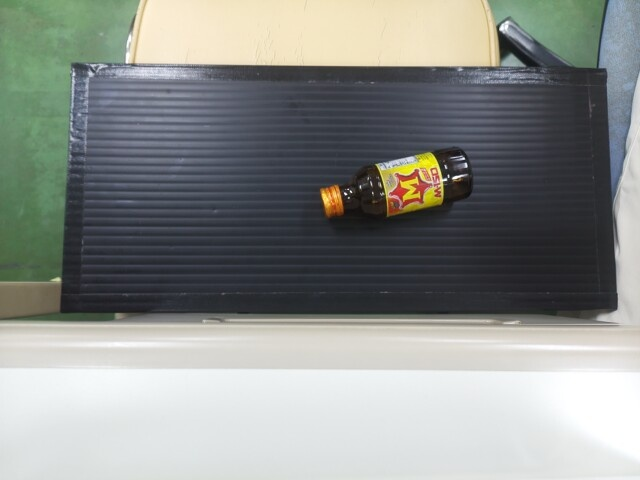glass_bottle: (310, 154, 474, 212)
